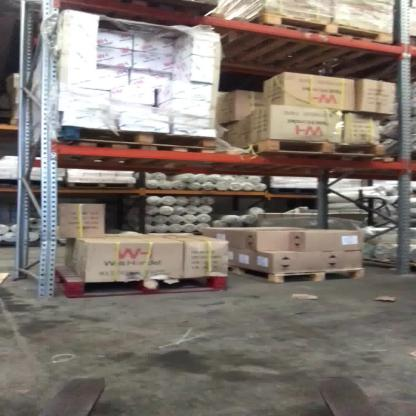vertical_damage: (36, 232, 66, 258)
